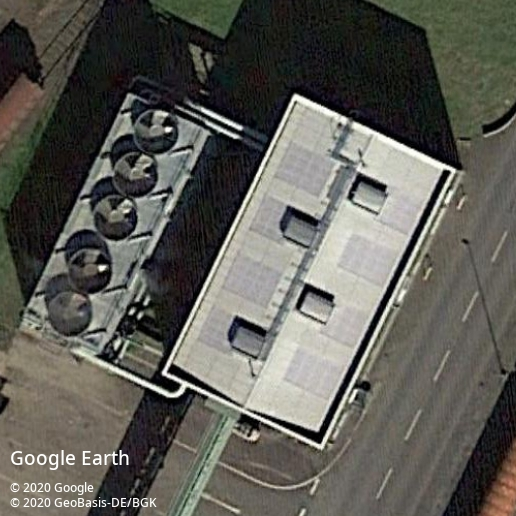Vent: (111, 151, 160, 201), (67, 249, 114, 297), (134, 109, 180, 156), (92, 196, 139, 242), (47, 292, 94, 338)
